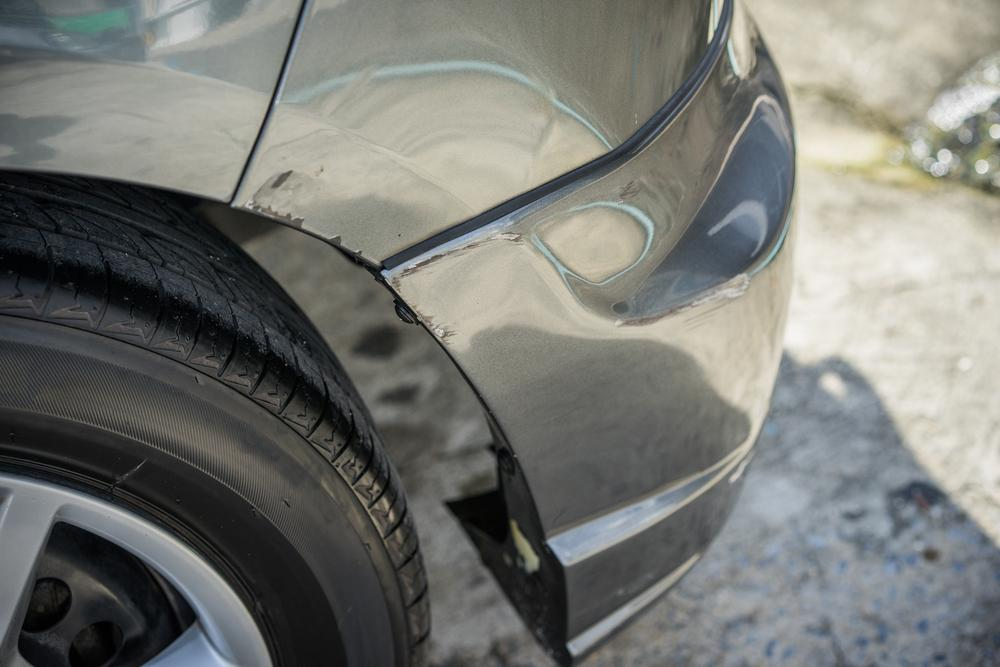scratch: (381, 222, 531, 353), (251, 167, 365, 259), (616, 274, 755, 333)
